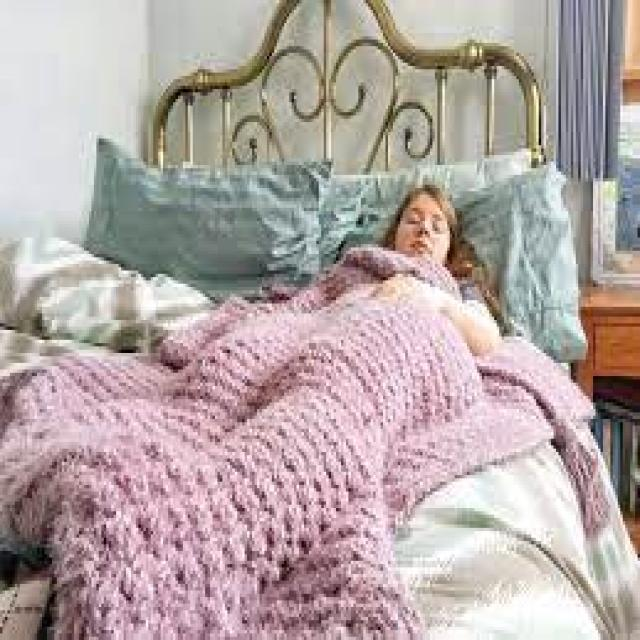blanket: (0, 249, 619, 637)
